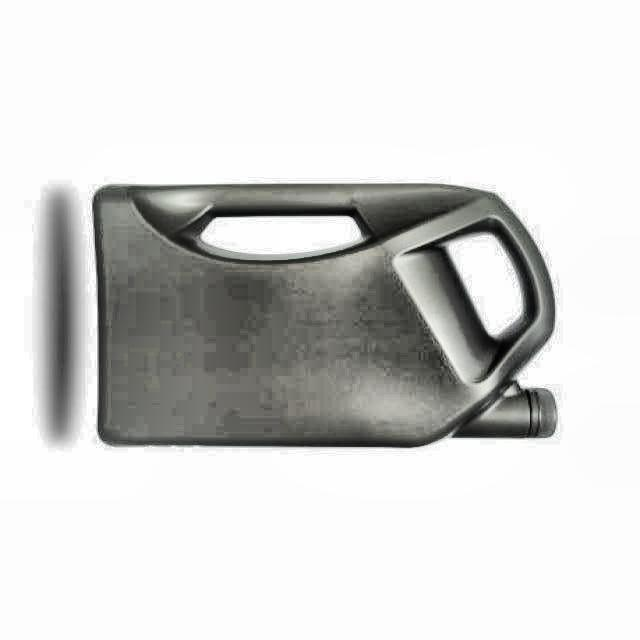plastic: (94, 184, 557, 447)
